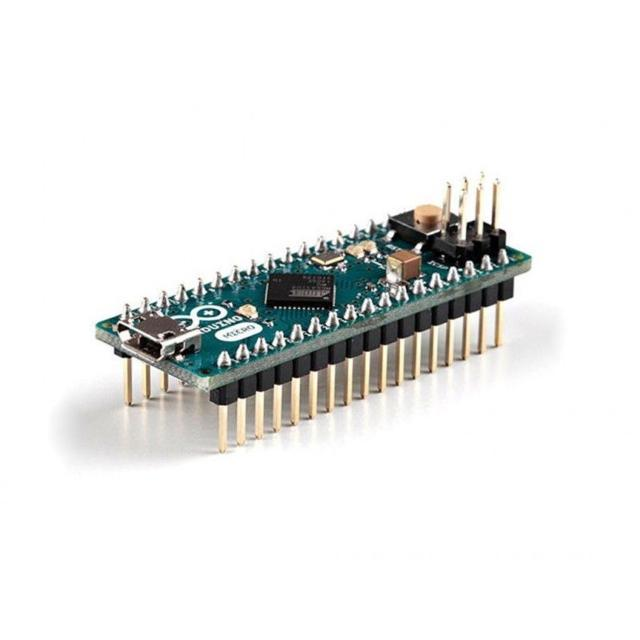Arduino-Micro: (97, 176, 532, 444)
